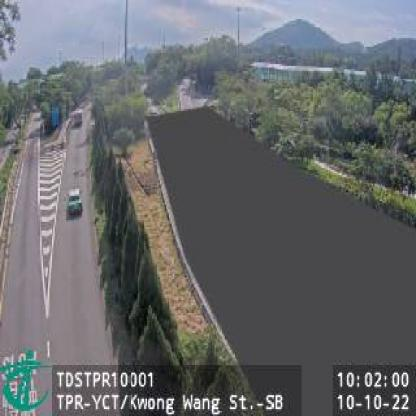Car: (66, 189, 84, 217)
